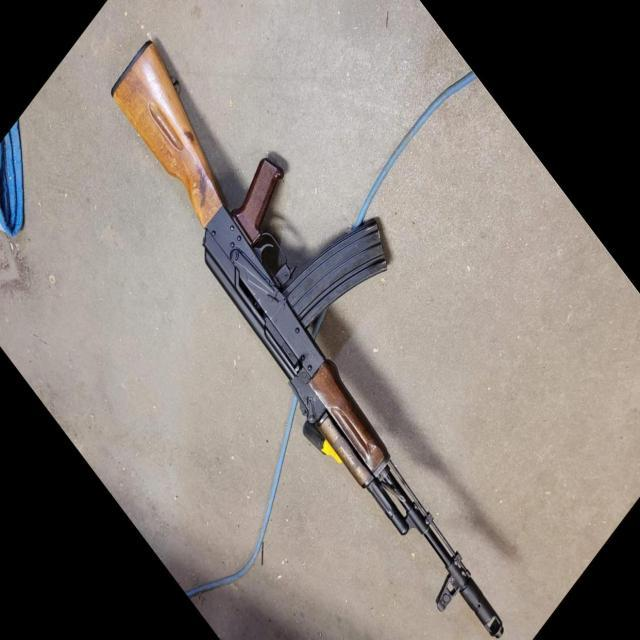weapon: (108, 39, 506, 640)
